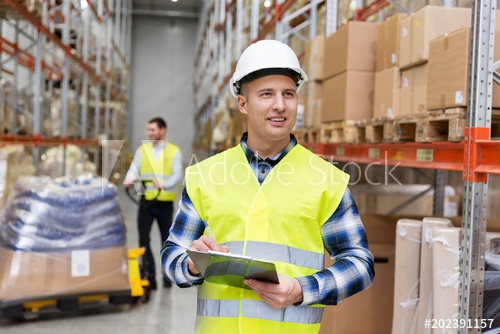helmet: (226, 41, 309, 95)
person with full safety: (170, 40, 375, 334)
person with partial safety: (122, 117, 183, 290)
safety vest: (182, 143, 352, 334), (139, 141, 178, 201)
